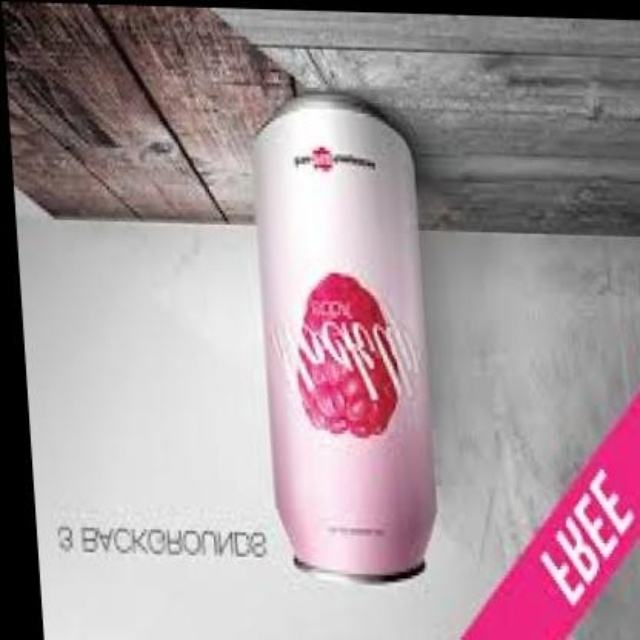trash: (257, 95, 434, 577)
